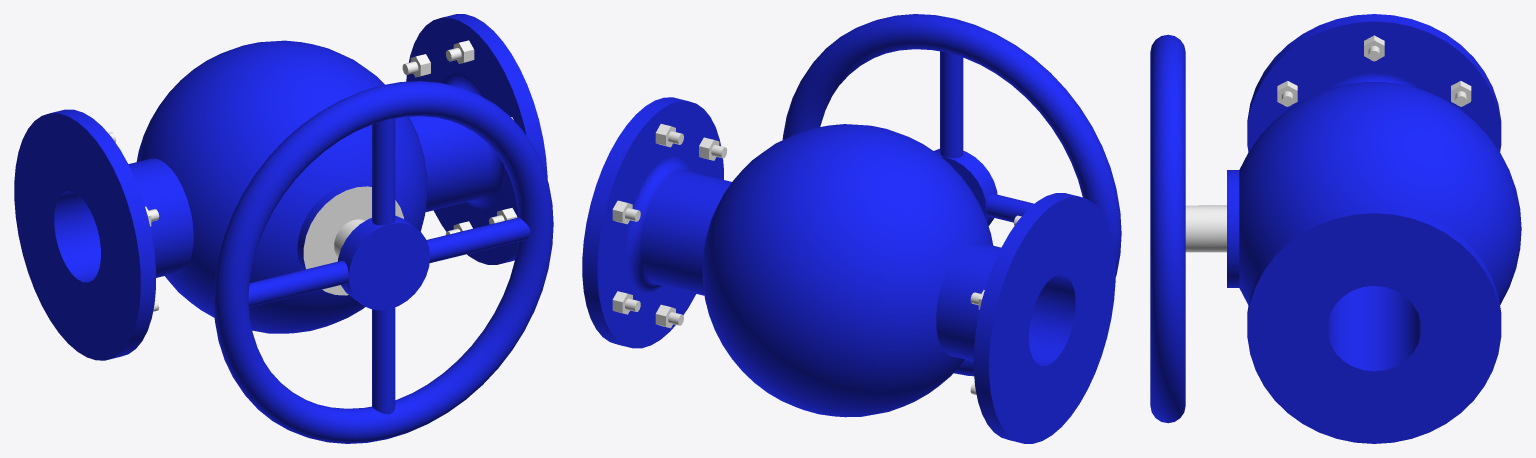
The model's file is Kugelhahn DN80.obj.
3 renders of one model, left to right at view 1: azimuth 30°, elevation 25°; view 2: azimuth 150°, elevation 25°; view 3: azimuth 270°, elevation 25°, orthographic.
Parts seen in each view (by area): view 1: Volumenkörper1; view 2: Volumenkörper1; view 3: Volumenkörper1.
Boxes of the visible parts, left/top/right/bottom form: Volumenkörper1: left=14, top=14, right=553, bottom=443; Volumenkörper1: left=582, top=14, right=1121, bottom=443; Volumenkörper1: left=1150, top=14, right=1521, bottom=443.
Size of the model in its own units: 0.4 by 0.33 by 0.315.
